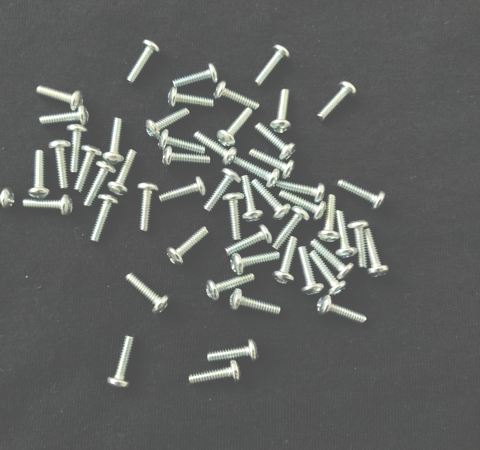shortscrew: (125, 273, 171, 315), (311, 239, 355, 280), (316, 81, 357, 123), (272, 206, 310, 251), (310, 252, 348, 297), (126, 40, 163, 86), (204, 168, 241, 214), (166, 227, 209, 266), (254, 123, 298, 161), (194, 130, 239, 167), (248, 148, 296, 182), (230, 288, 282, 319), (255, 45, 292, 88), (107, 336, 136, 390), (216, 107, 254, 148), (226, 225, 273, 258), (107, 149, 139, 197), (317, 295, 368, 325), (83, 161, 117, 206), (207, 273, 257, 303), (146, 108, 192, 140), (338, 180, 387, 210), (280, 190, 327, 221), (297, 247, 325, 299), (235, 157, 280, 189), (90, 195, 119, 243), (214, 81, 260, 111), (189, 360, 241, 386), (74, 145, 102, 193), (272, 237, 300, 285), (364, 228, 390, 278), (49, 140, 75, 189), (173, 62, 221, 88), (231, 250, 280, 275), (208, 339, 259, 363), (36, 85, 83, 111), (276, 180, 326, 204), (317, 194, 341, 243), (28, 150, 51, 200), (23, 195, 74, 217), (241, 175, 264, 222), (103, 118, 126, 165), (159, 130, 204, 154), (348, 220, 370, 268), (336, 211, 358, 259), (162, 146, 212, 167), (138, 183, 159, 232), (67, 124, 88, 173), (169, 86, 213, 109), (270, 89, 292, 134), (222, 192, 242, 240), (0, 188, 16, 210)
